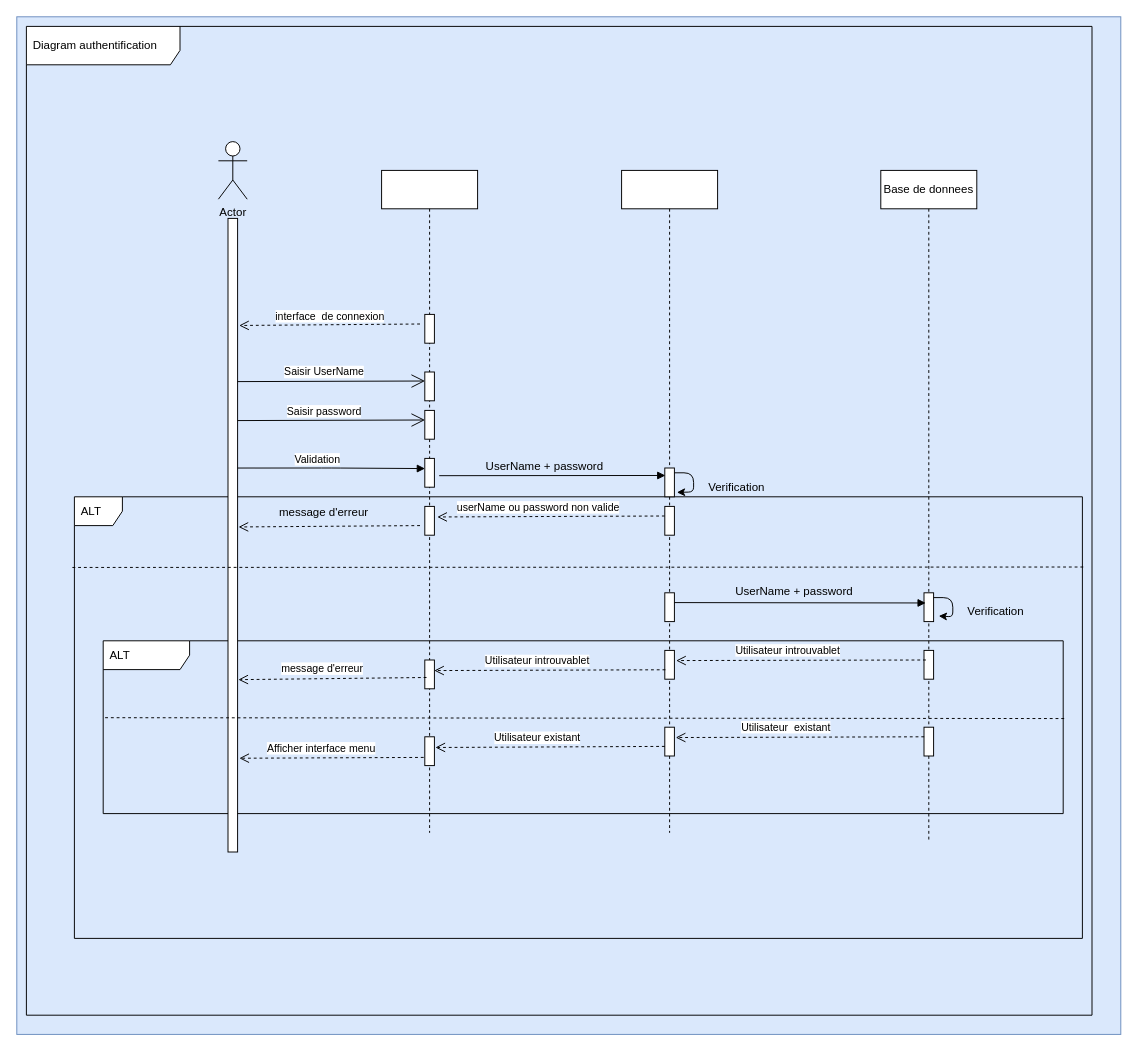
The diagram is 1138 pixels wide and 1051 high, and some of its shapes have lost their labels. The centre of each missing label's shape, as x and y in pixels:
Conteoleur: [669,501]
Interface: [429,501]
